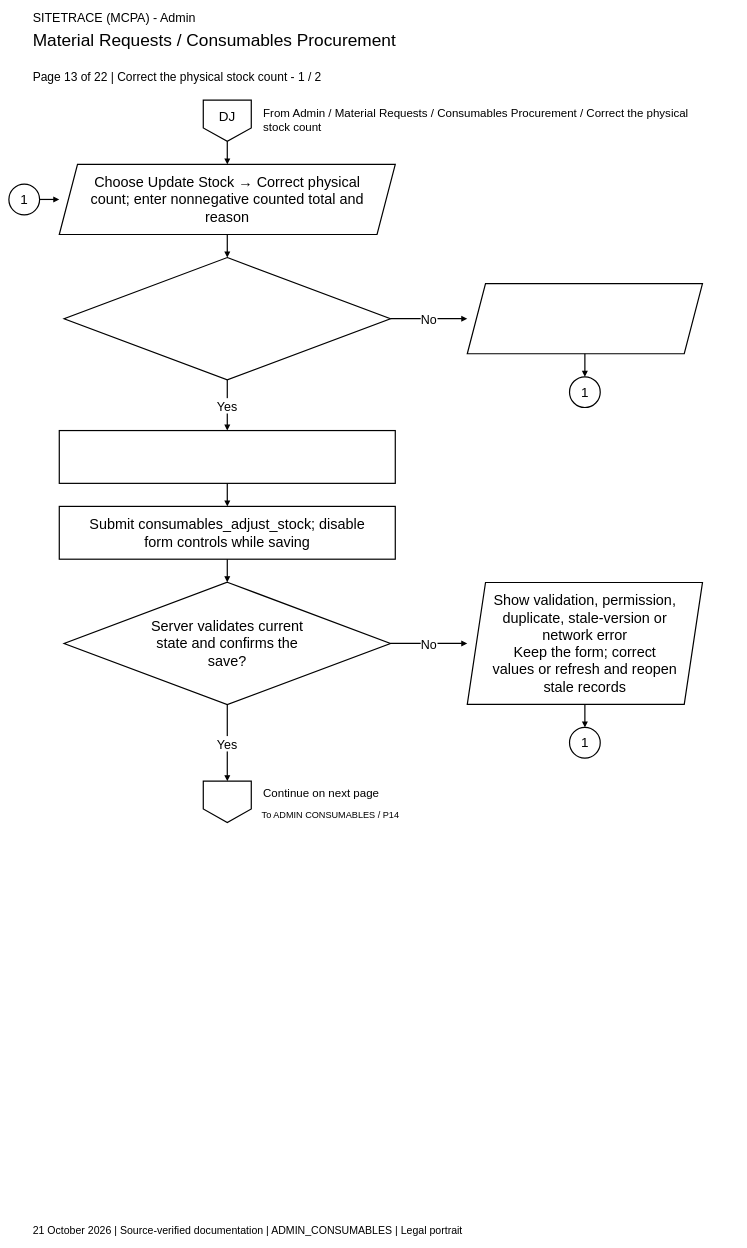
The diagram is 747 pixels wide and 1248 high, and some of its shapes have lost their labels. The shapes that lost their labels are listed below. From the top down, each one's centre as x and y in pixels, then its label:
the point at 227,318: Count is a valid bounded quantity and reason is nonblank?
the point at 584,318: Show quantity / required-field error; correct input
the point at 227,457: Preview counted stock total; retain operation ID for the same-form retry
the point at 227,801: DV
